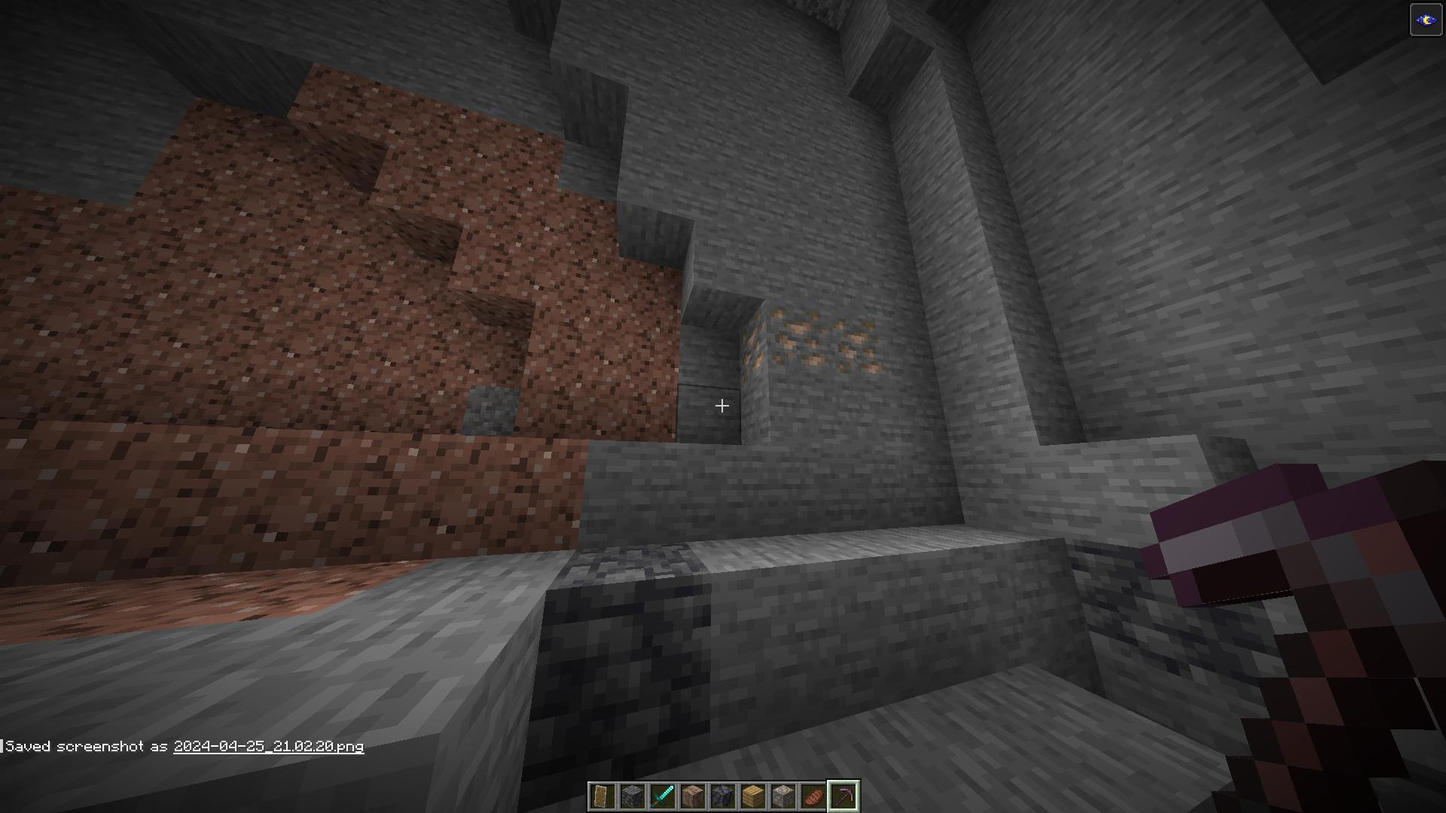iron ore: (764, 303, 825, 371), (824, 316, 884, 377), (739, 314, 766, 375)
